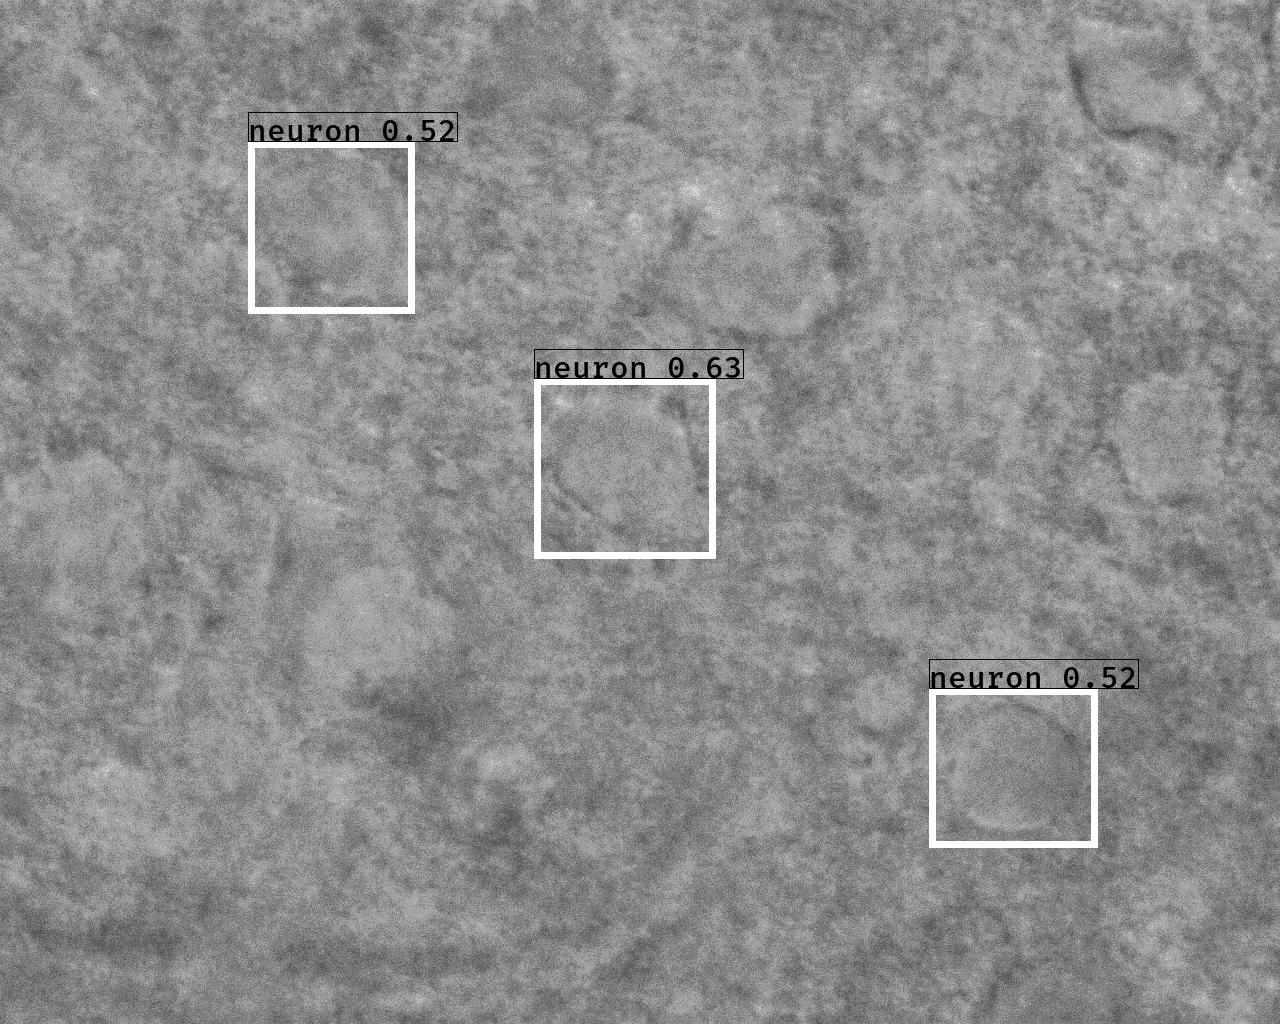neuron: (530, 385, 707, 553), (1055, 2, 1219, 155)
